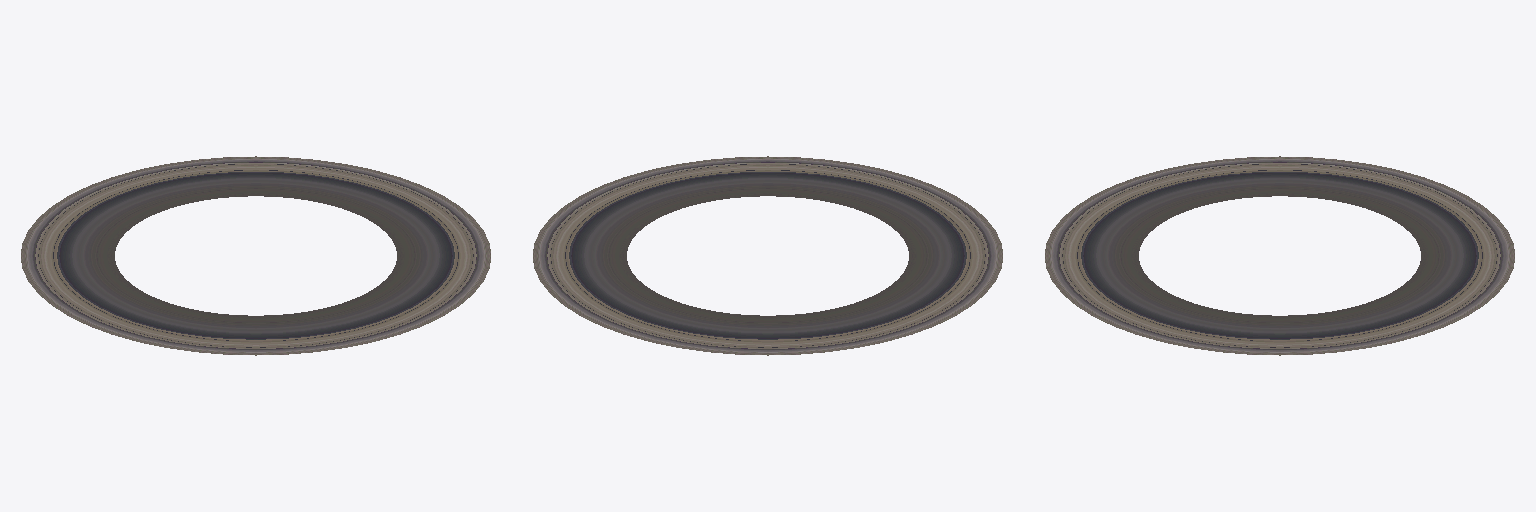
3 views of the same model, side by side, from view 1: azimuth 30°, elevation 25°; view 2: azimuth 150°, elevation 25°; view 3: azimuth 270°, elevation 25° (orthographic).
Visible parts, largest first — view 1: Torus; view 2: Torus; view 3: Torus.
Part boxes in pixels (x1,y1,x2,y2): Torus: (21,156,490,355); Torus: (533,156,1002,355); Torus: (1045,156,1514,355).
Bounding box in the file's own units: 32.5 × 0.05 × 32.5.
1 materials, 1 textured.